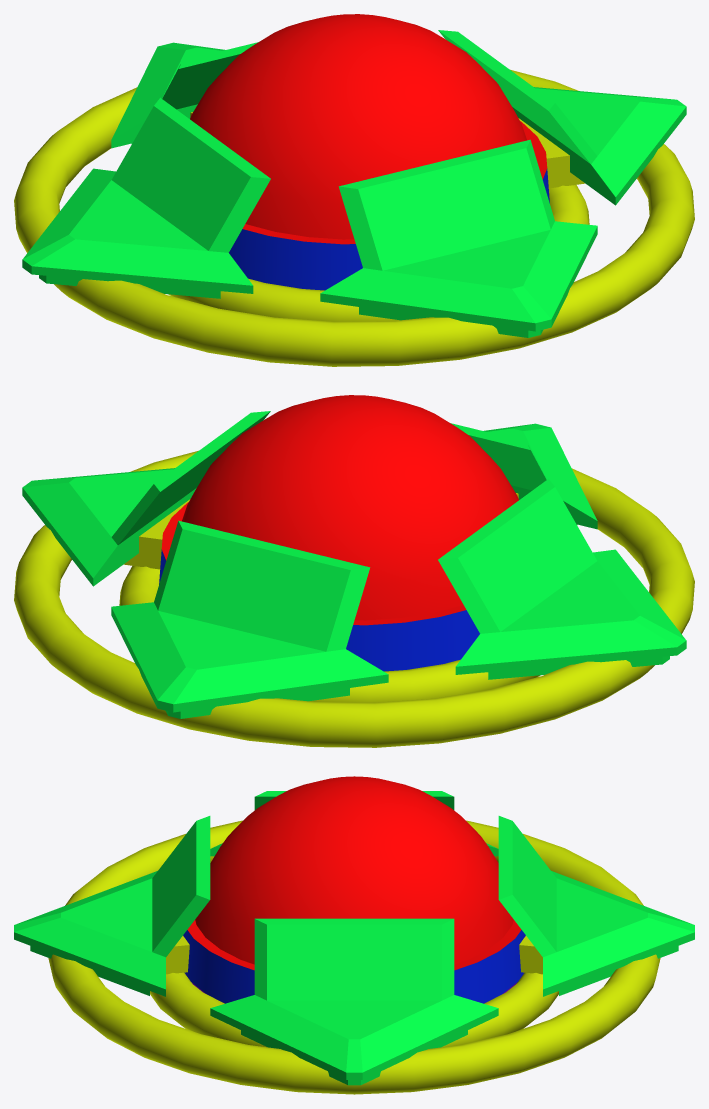
Rendered from PlayerCarrier_Old.FBX.
3 renders of one model, top to bottom at view 1: azimuth 30°, elevation 25°; view 2: azimuth 150°, elevation 25°; view 3: azimuth 270°, elevation 25°, orthographic. The views are drawn at different scales.
Parts seen in each view (by area): view 1: Carrier; view 2: Carrier; view 3: Carrier.
Boxes of the visible parts, x1,y1,x2,y2 form: Carrier: [14, 14, 694, 366]; Carrier: [14, 395, 694, 747]; Carrier: [14, 776, 694, 1094].
Size of the model in its own units: 107 by 37.86 by 107.
